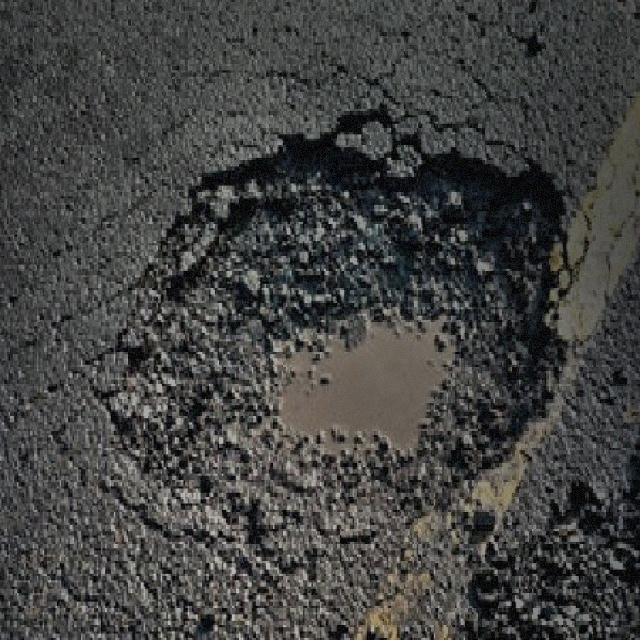pothole: (101, 98, 572, 572)
